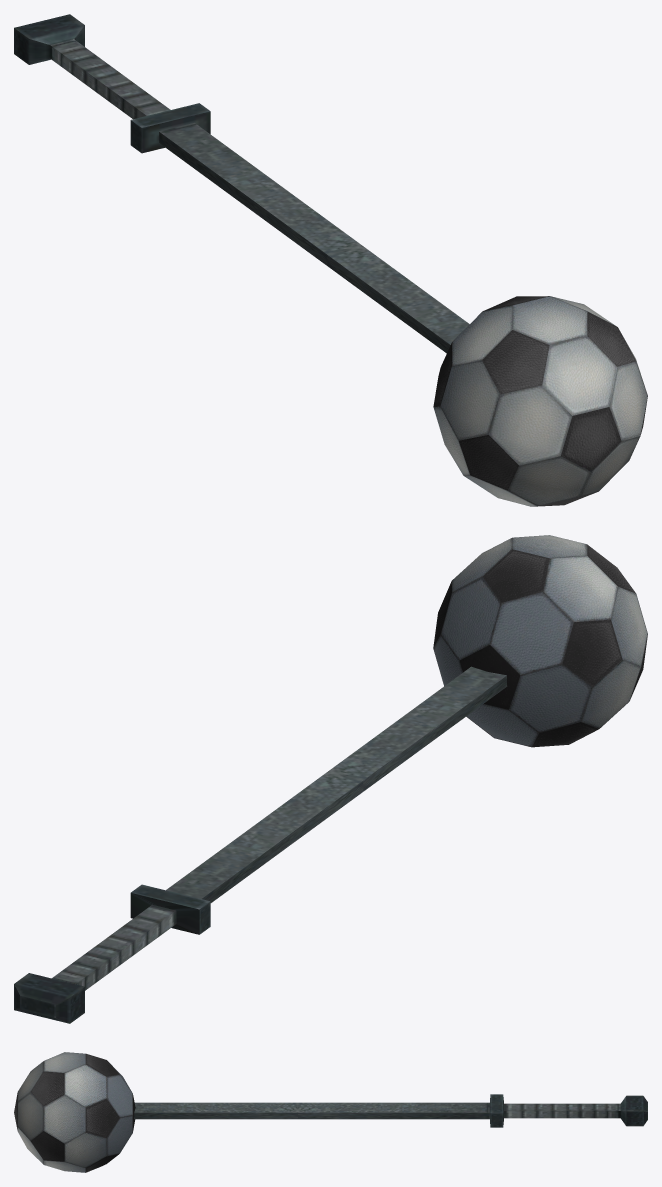
3 renders of one model, top to bottom at view 1: azimuth 30°, elevation 25°; view 2: azimuth 150°, elevation 25°; view 3: azimuth 270°, elevation 25°, orthographic. The views are drawn at different scales.
Parts seen in each view (by area): view 1: i004013; view 2: i004013; view 3: i004013.
Boxes of the visible parts, box(x1,y1,x2,y2) form: i004013: box(14, 14, 647, 506); i004013: box(14, 535, 647, 1023); i004013: box(14, 1052, 647, 1172).
Bounding box in the file's own units: 30.15 × 29.82 × 159.
1 material, 1 textured.
